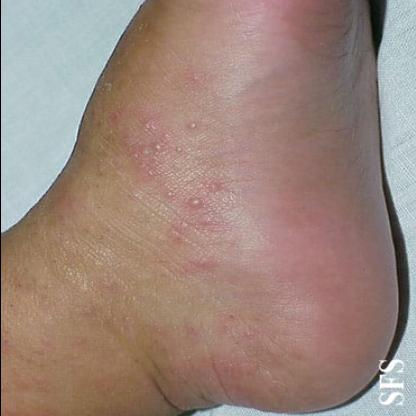Fire ant: (57, 226, 130, 310), (106, 202, 127, 216), (107, 316, 130, 328), (36, 364, 51, 378), (40, 346, 57, 358)
